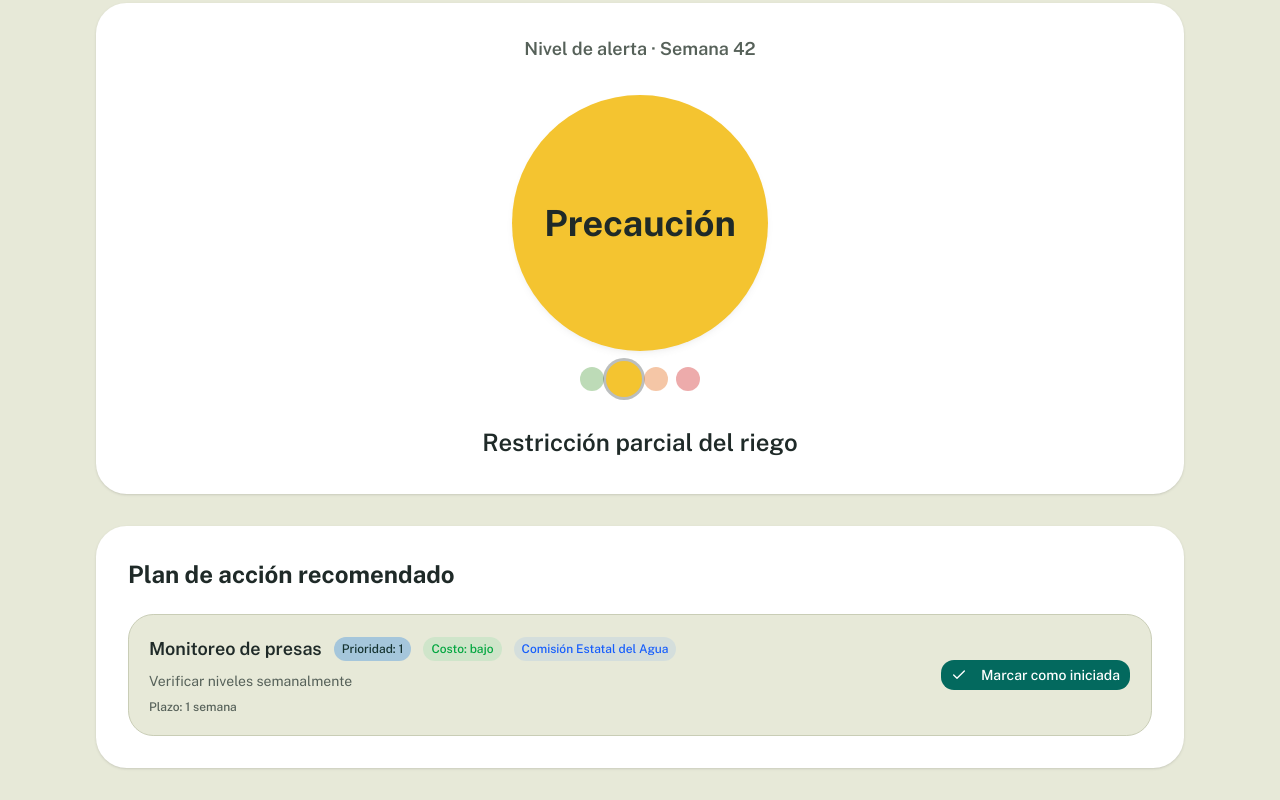
AyuntamientoDashboard › Inicio: muestra la semana y el semáforo, y permite marcar acción tomada
(page scrolled)
Check: the text "Nivel de alerta · Semana 42" is shown, box [524,35,756,63]
Click the button "Marcar como iniciada" at {"x": 1035, "y": 675}, box [940,659,1131,691]
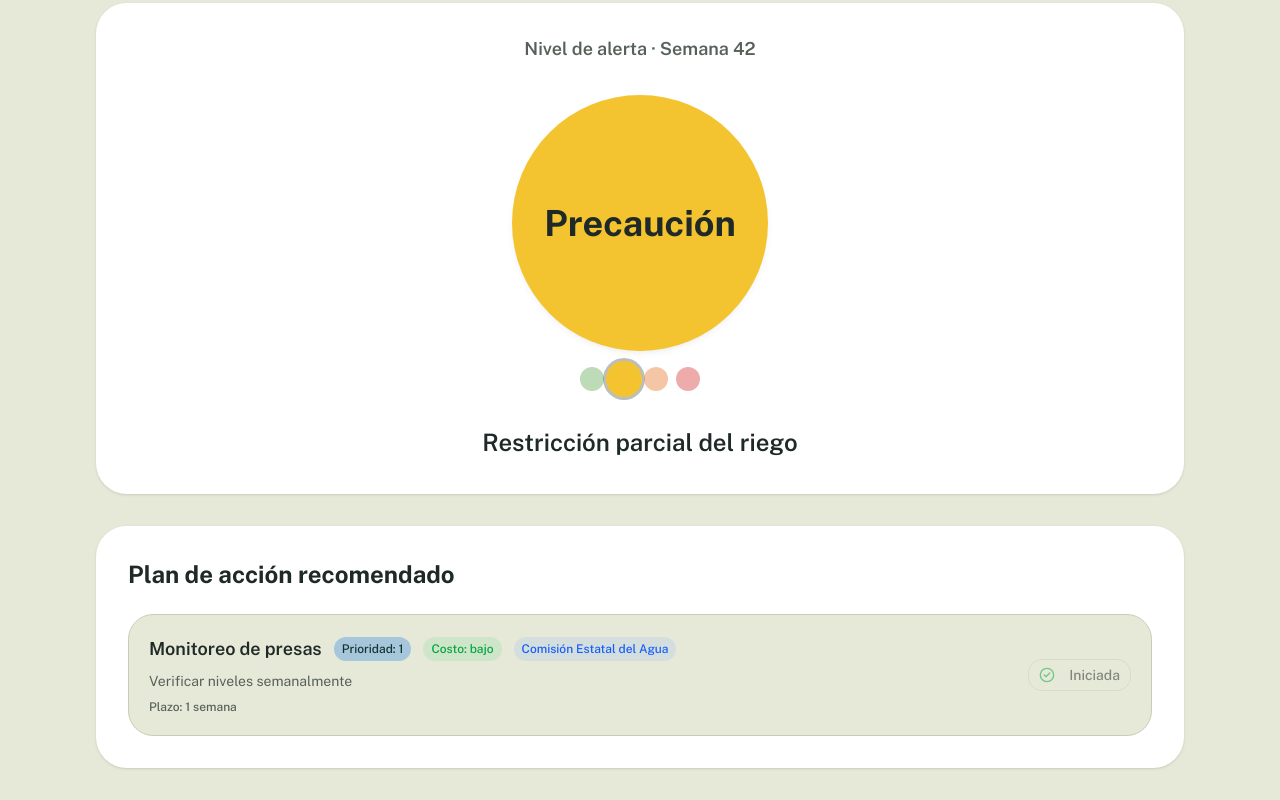
Check: the button "Iniciada" is disabled, box [1028,659,1131,691]
